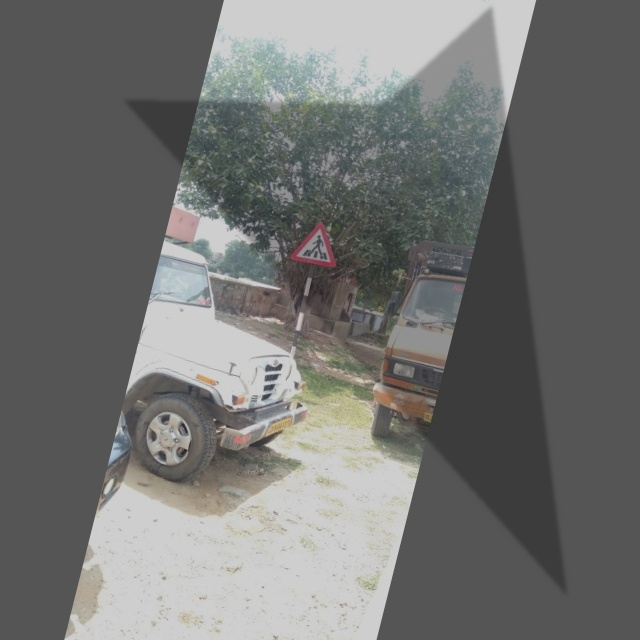Pedestrian_Crossing: (283, 207, 358, 277)
